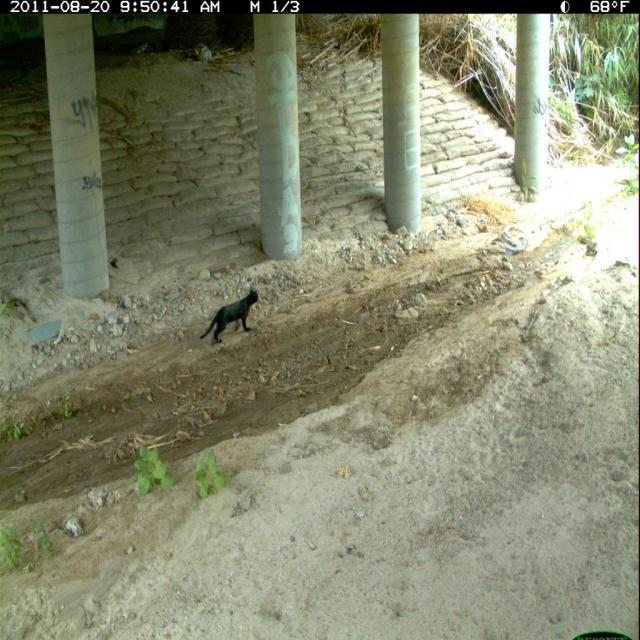cat: (196, 282, 264, 349)
